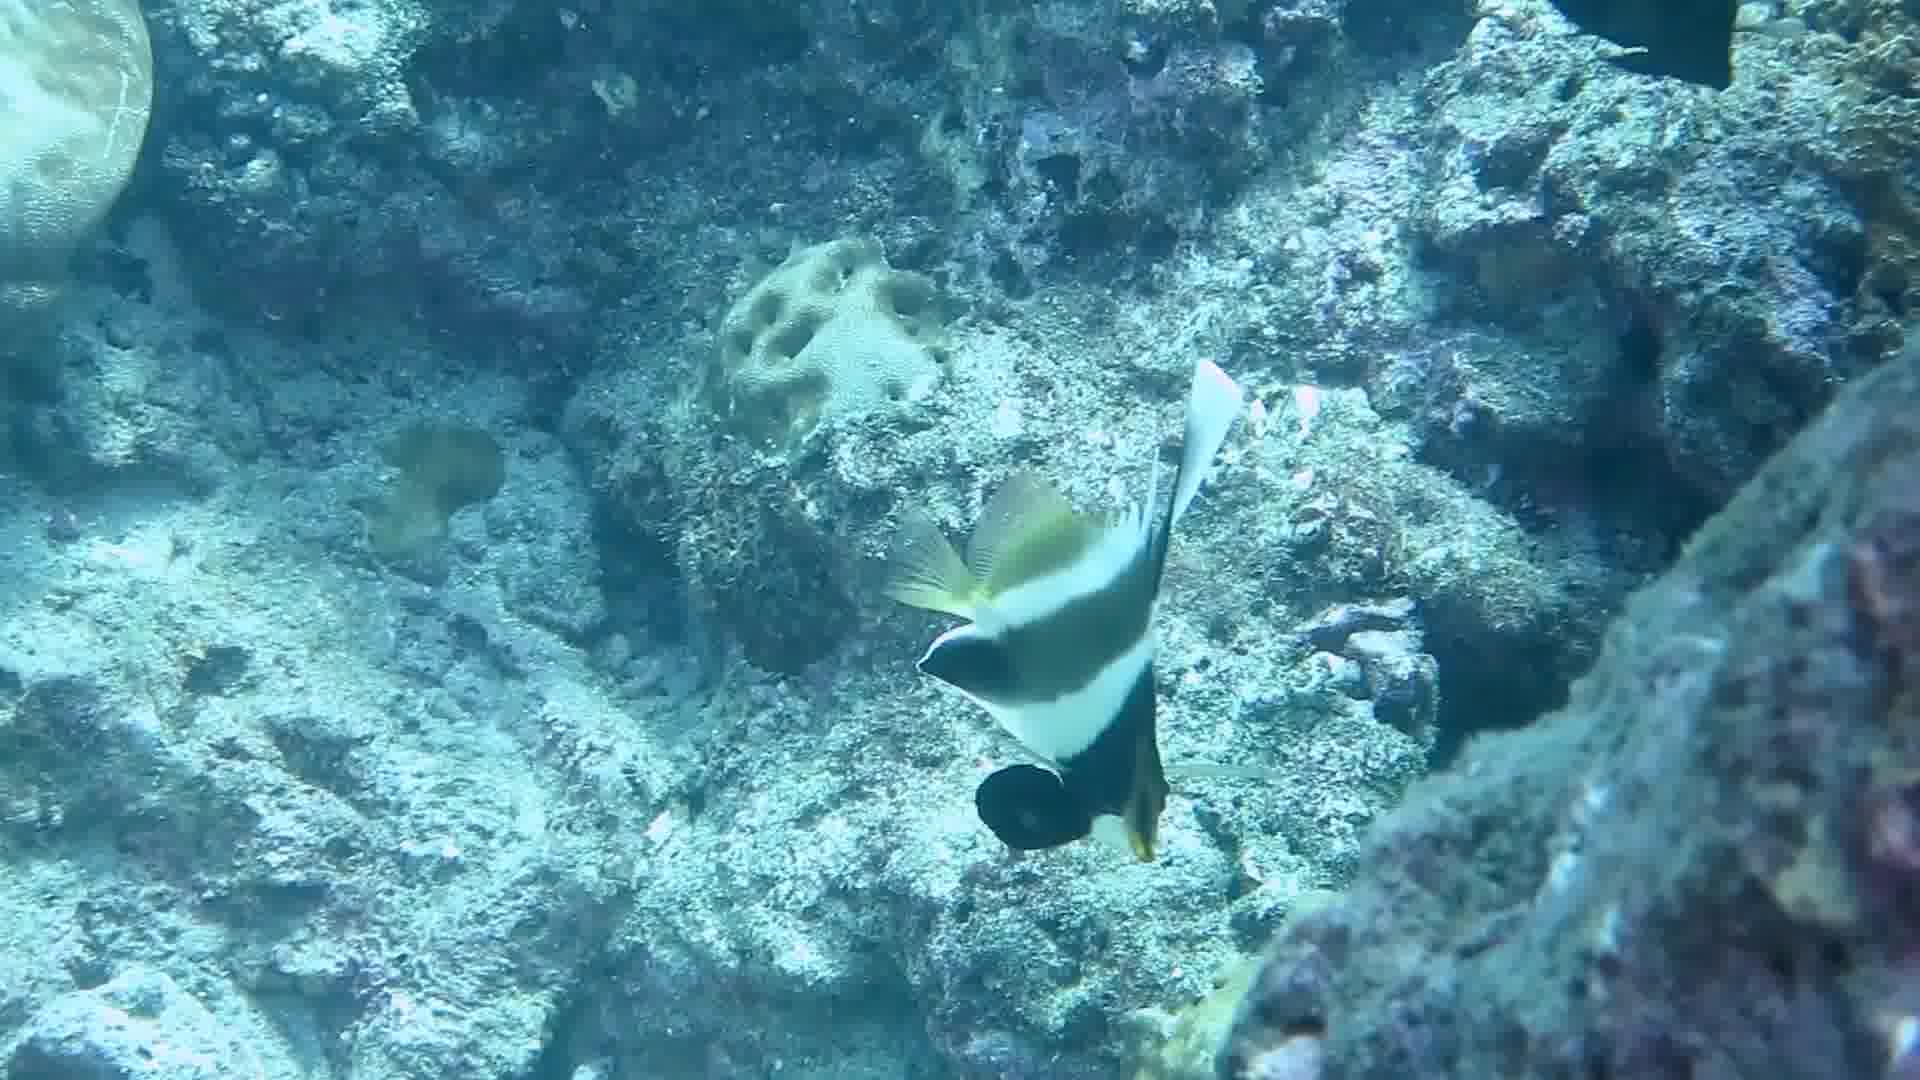Heniochus chrysostomus: (760, 363, 1321, 898)
